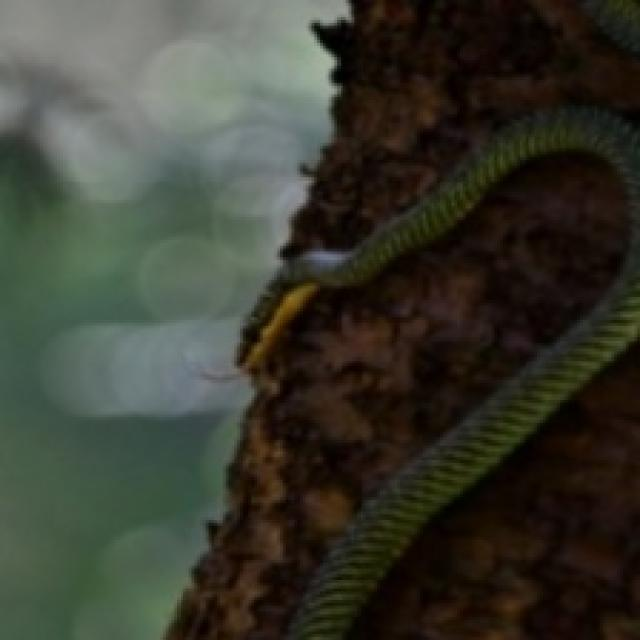paradise tree snake: (169, 0, 637, 637), (349, 343, 637, 637), (354, 463, 437, 540), (306, 551, 386, 629)
